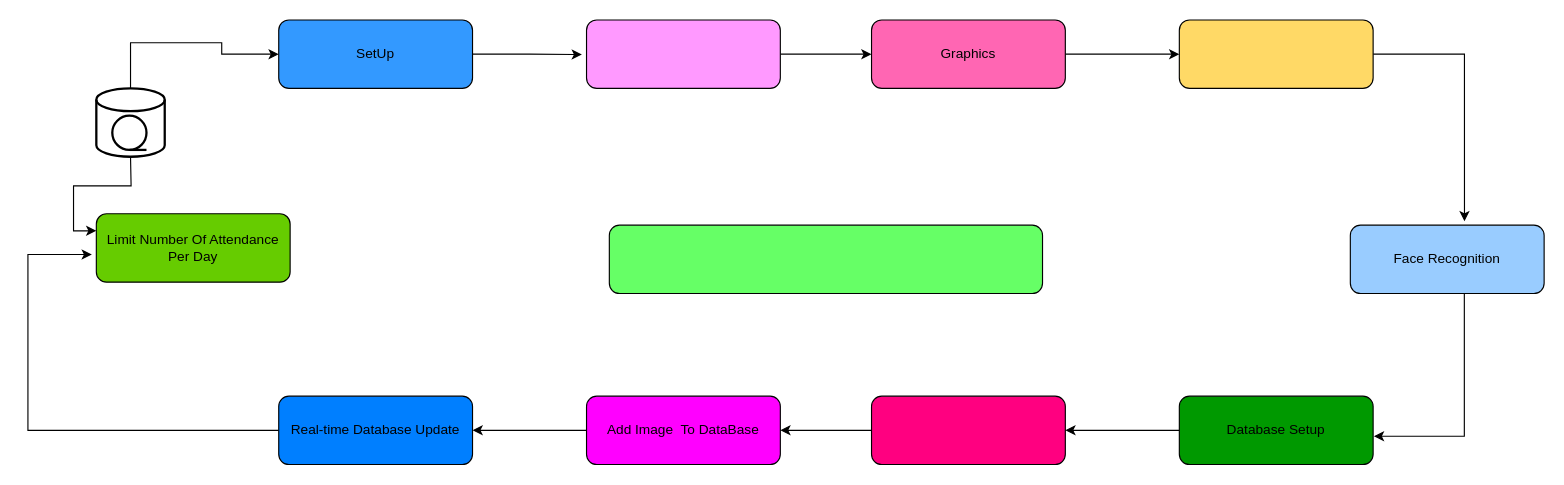
The diagram is 1564 pixels wide and 485 high, and some of its shapes have lost their labels. The centre of each missing label's shape, as x and y in pixels:
"Add Data To DataBase" belongs at point (967, 430).
"AI-Face-Recognizection" belongs at point (825, 259).
"Encoding Generator" belongs at point (1275, 53).
"WebCam" belongs at point (682, 53).
